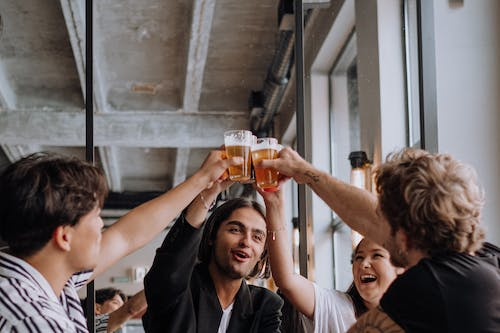alcohol: (222, 128, 254, 181), (251, 136, 281, 189)
